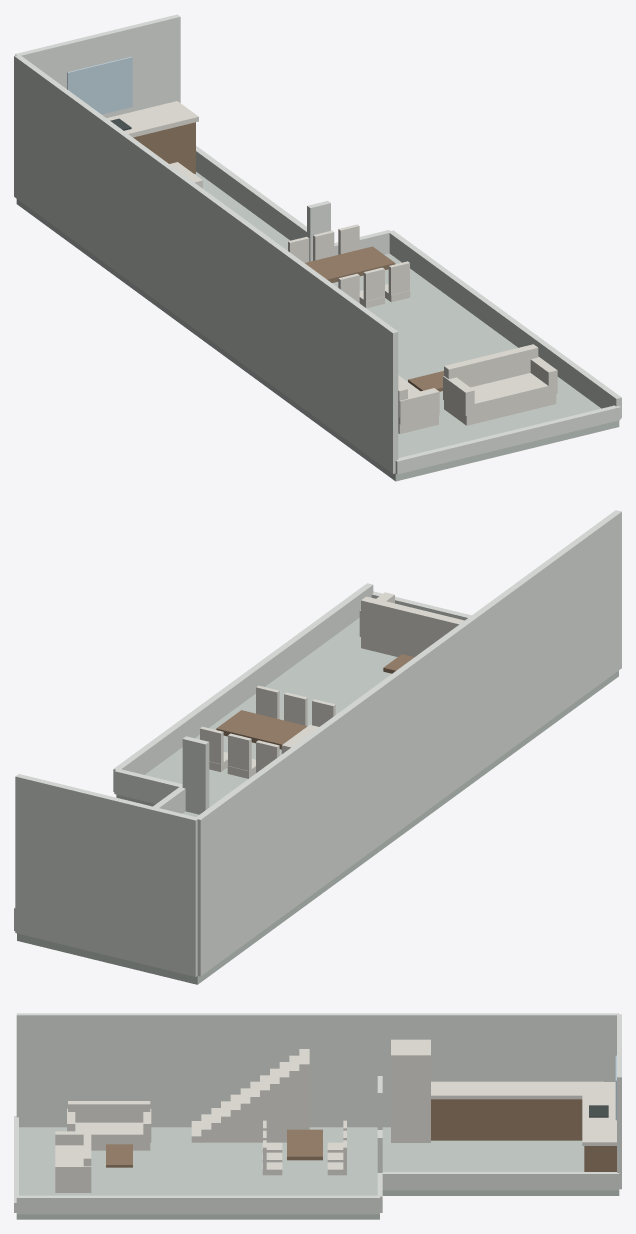
Rendered from hutchinson-concept.glb.
3 views of the same model, one above another, from view 1: azimuth 30°, elevation 25°; view 2: azimuth 150°, elevation 25°; view 3: azimuth 270°, elevation 25° (orthographic). The views are drawn at different scales.
Visible parts, largest first — view 1: Left exterior, Listed living/dining footprint, Rear exterior, Right cutaway, Front cutaway, Living seating concept seat, Kitchen right cutaway, Rear window display placeholder, Living seating concept back, Listed kitchen footprint, Rear base cabinet concept, Rear counter concept (+7 smaller); view 2: Left exterior, Rear exterior, Listed living/dining footprint, Right cutaway, Living seating concept back, Listed kitchen footprint, Kitchen partition right, Dining table concept, Rear step in footprint, Living seating concept seat, Dining chair back.003, Dining chair back.004 (+1 smaller); view 3: Left exterior, Listed living/dining footprint, Listed kitchen footprint, Right cutaway, Kitchen base cabinet concept, Kitchen right cutaway, Refrigerator display placeholder, Kitchen counter concept, Rear counter concept, Secondary seating concept back, Secondary seating concept seat, Dining table concept (+20 smaller).
Boxes of the visible parts, box(x1,y1,x2,y2) form: Left exterior: box(14, 54, 398, 473); Listed living/dining footprint: box(167, 253, 619, 481); Rear exterior: box(15, 14, 180, 117); Right cutaway: box(388, 230, 621, 418); Front cutaway: box(395, 405, 620, 474); Living seating concept seat: box(444, 373, 556, 425); Kitchen right cutaway: box(196, 146, 306, 240); Rear window display placeholder: box(67, 56, 132, 114); Living seating concept back: box(444, 344, 538, 387); Listed kitchen footprint: box(16, 172, 289, 313); Rear base cabinet concept: box(133, 122, 195, 173); Rear counter concept: box(107, 101, 198, 137); Left exterior: box(194, 510, 621, 976); Rear exterior: box(15, 774, 197, 976); Listed living/dining footprint: box(116, 618, 618, 861); Right cutaway: box(113, 583, 373, 791); Living seating concept back: box(361, 596, 464, 646); Listed kitchen footprint: box(17, 811, 364, 984); Kitchen partition right: box(182, 736, 209, 814); Dining table concept: box(216, 710, 307, 749); Rear step in footprint: box(114, 768, 182, 803); Living seating concept seat: box(361, 630, 428, 656); Dining chair back.003: box(228, 733, 251, 772); Dining chair back.004: box(256, 685, 279, 719); Left exterior: box(16, 1013, 619, 1127); Listed living/dining footprint: box(16, 1127, 379, 1219); Listed kitchen footprint: box(382, 1127, 619, 1195); Right cutaway: box(16, 1195, 379, 1214); Kitchen base cabinet concept: box(431, 1099, 582, 1140); Kitchen right cutaway: box(380, 1172, 619, 1190); Refrigerator display placeholder: box(391, 1039, 430, 1142); Kitchen counter concept: box(431, 1081, 603, 1099); Rear counter concept: box(582, 1082, 616, 1145); Secondary seating concept back: box(68, 1101, 150, 1122); Secondary seating concept seat: box(75, 1122, 150, 1150); Dining table concept: box(287, 1129, 322, 1160).
Bounding box in the file's own units: 4.09 × 2.54 × 11.81.
